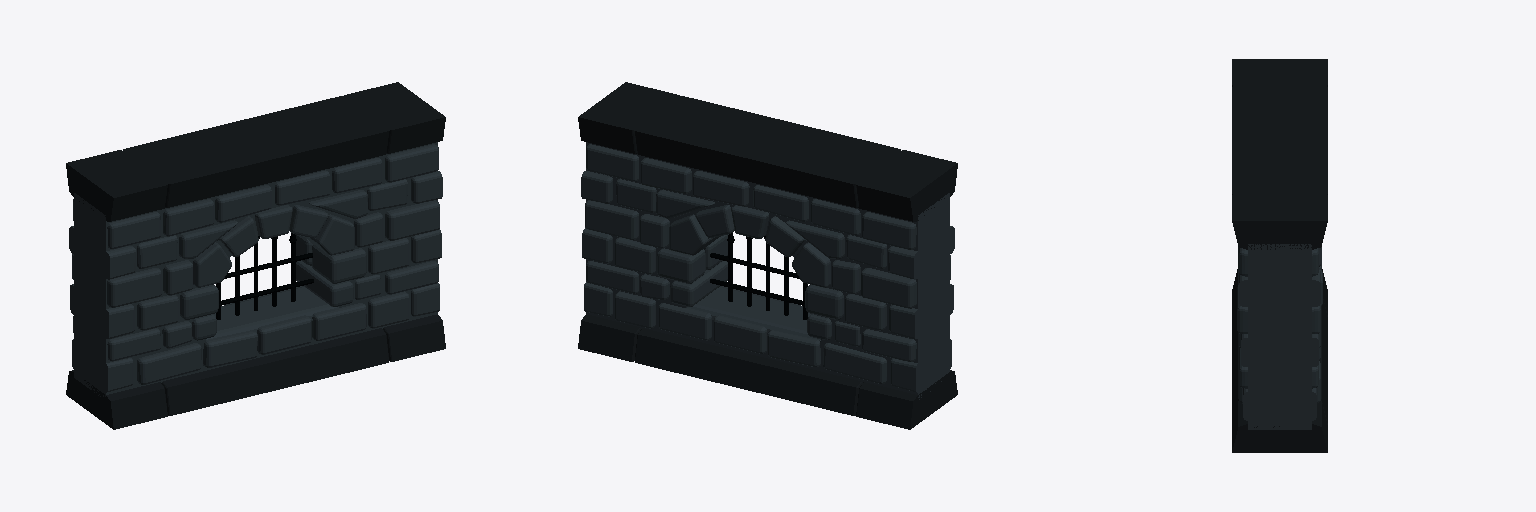
File: wall_windowGate.obj
The picture shows the model from 3 angles: view 1: azimuth 30°, elevation 25°; view 2: azimuth 150°, elevation 25°; view 3: azimuth 270°, elevation 25°; orthographic projection.
Visible parts, largest first — view 1: wall_windowGate_Cube.2611; view 2: wall_windowGate_Cube.2611; view 3: wall_windowGate_Cube.2611.
Part boxes in pixels (left/top/right/bottom): wall_windowGate_Cube.2611: left=66, top=82, right=445, bottom=429; wall_windowGate_Cube.2611: left=578, top=82, right=957, bottom=429; wall_windowGate_Cube.2611: left=1232, top=59, right=1327, bottom=452.
Size of the model in its own units: 6 by 4 by 1.5.